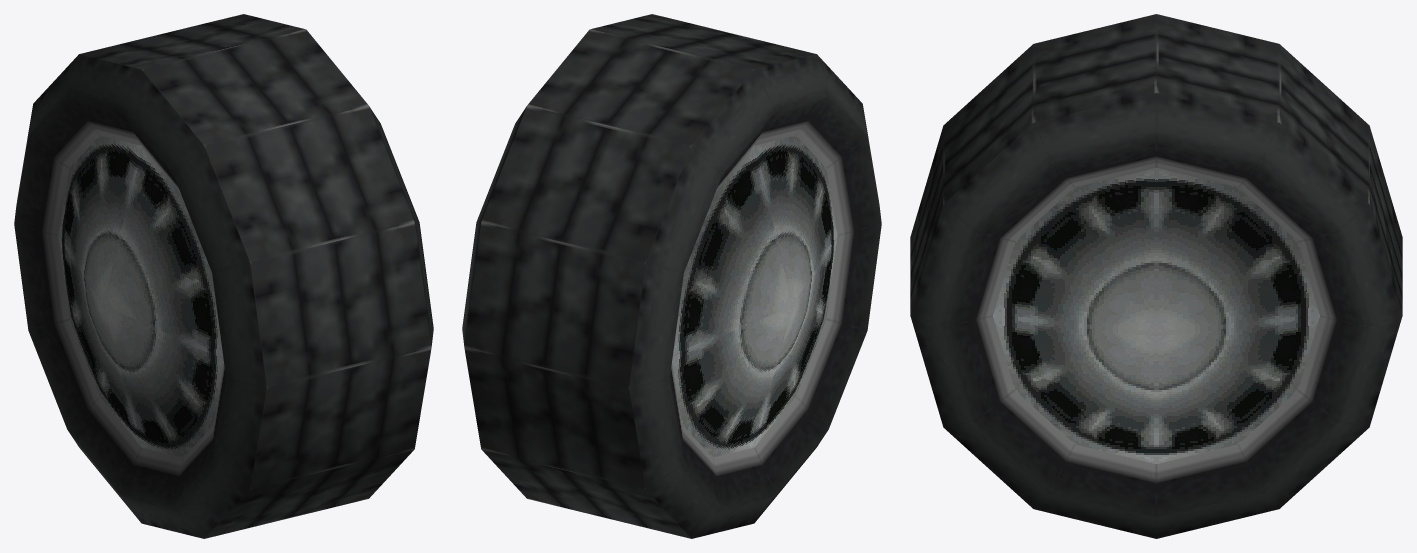
Rendered from tire_r.fbx.
3 renders of one model, left to right at view 1: azimuth 30°, elevation 25°; view 2: azimuth 150°, elevation 25°; view 3: azimuth 270°, elevation 25°, orthographic.
Visible parts, largest first — view 1: node_c821eae4_92ab_4c9e_b7ce_ce064df9b436_mesh0, node_53ca50e5_bd20_4207_98bf_d36b1d02c867_mesh0; view 2: node_c821eae4_92ab_4c9e_b7ce_ce064df9b436_mesh0, node_53ca50e5_bd20_4207_98bf_d36b1d02c867_mesh0; view 3: node_c821eae4_92ab_4c9e_b7ce_ce064df9b436_mesh0, node_53ca50e5_bd20_4207_98bf_d36b1d02c867_mesh0.
Boxes of the visible parts, box(x1,y1,x2,y2) form: node_c821eae4_92ab_4c9e_b7ce_ce064df9b436_mesh0: box(14, 14, 433, 538); node_53ca50e5_bd20_4207_98bf_d36b1d02c867_mesh0: box(58, 135, 223, 457); node_c821eae4_92ab_4c9e_b7ce_ce064df9b436_mesh0: box(462, 14, 881, 538); node_53ca50e5_bd20_4207_98bf_d36b1d02c867_mesh0: box(672, 135, 837, 457); node_c821eae4_92ab_4c9e_b7ce_ce064df9b436_mesh0: box(910, 14, 1402, 538); node_53ca50e5_bd20_4207_98bf_d36b1d02c867_mesh0: box(993, 167, 1319, 463).
Size of the model in its own units: 3898 by 7000 by 7000.
